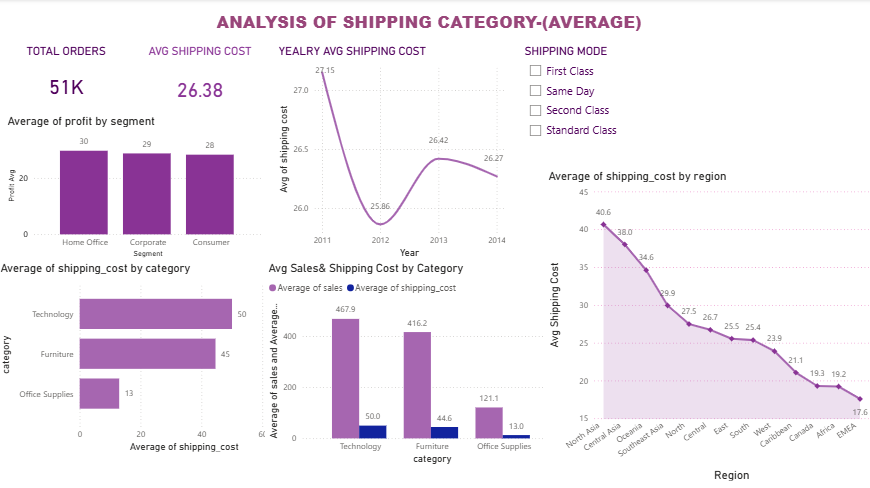

The page's visual inventory and layout, read from the dashboard file:
{"tool":"powerbi","page":{"name":"SHIPPING","canvas":[1280,720],"ordinal":1},"visuals":[{"type":"card","title":"TOTAL ORDERS","fields":{"Values":["super store.TOTAL ORDERS"]},"box":[0,65.9,202,102.4],"z":0},{"type":"clusteredBarChart","fields":{"Category":["super store.category"],"Y":["Avg(super store.shipping_cost)"]},"box":[0,383.4,439,283.9],"z":1000},{"type":"slicer","title":"SHIPPING MODE","fields":{"Values":["super store.ship_mode"]},"box":[766.8,65.9,238.5,182.9],"z":2000},{"type":"card","title":"AVG SHIPPING COST","fields":{"Values":["Avg(super store.shipping_cost)"]},"box":[202,65.9,190.2,111.2],"z":3000},{"type":"lineChart","title":"YEALRY AVG SHIPPING COST","fields":{"Category":["super store.order_date.Variation.Date Hierarchy.Year","super store.order_date.Variation.Date Hierarchy.Quarter"],"Y":["Avg(super store.shipping_cost)"]},"box":[406.8,65.9,342.4,317.6],"z":4000},{"type":"clusteredColumnChart","title":"Avg Sales& Shipping Cost by Category","fields":{"Y":["Avg(super store.sales)","Avg(super store.shipping_cost)"],"Category":["super store.category"]},"box":[392.2,383.4,439,302.9],"z":5000},{"type":"areaChart","fields":{"Y":["Avg(super store.shipping_cost)"],"Category":["super store.region"]},"box":[802,248.8,478.5,461],"z":6000},{"type":"clusteredColumnChart","fields":{"Y":["Avg(super store.profit)"],"Category":["super store.segment"]},"box":[10.2,168.3,382,215.1],"z":7000},{"type":"textbox","title":"ANALYSIS OF SHIPPING CATEGORY-(AVERAGE)","box":[315.8,16.8,648.4,33.6],"z":7002}]}

Visuals, with their boxes in screenshot pixels (x1, y1, x2, y2), scaled from the page's 1280x720 canvas onto the 870x488 screenshot:
"TOTAL ORDERS" card: x1=0 y1=45 x2=137 y2=114
clusteredBarChart - super store.category x Avg(super store.shipping_cost): x1=0 y1=260 x2=298 y2=452
"SHIPPING MODE" slicer: x1=521 y1=45 x2=683 y2=169
"AVG SHIPPING COST" card: x1=137 y1=45 x2=267 y2=120
"YEALRY AVG SHIPPING COST" lineChart: x1=276 y1=45 x2=509 y2=260
"Avg Sales& Shipping Cost by Category" clusteredColumnChart: x1=267 y1=260 x2=565 y2=465
areaChart - Avg(super store.shipping_cost) x super store.region: x1=545 y1=169 x2=869 y2=481
clusteredColumnChart - Avg(super store.profit) x super store.segment: x1=7 y1=114 x2=267 y2=260
"ANALYSIS OF SHIPPING CATEGORY-(AVERAGE)" textbox: x1=215 y1=11 x2=655 y2=34
